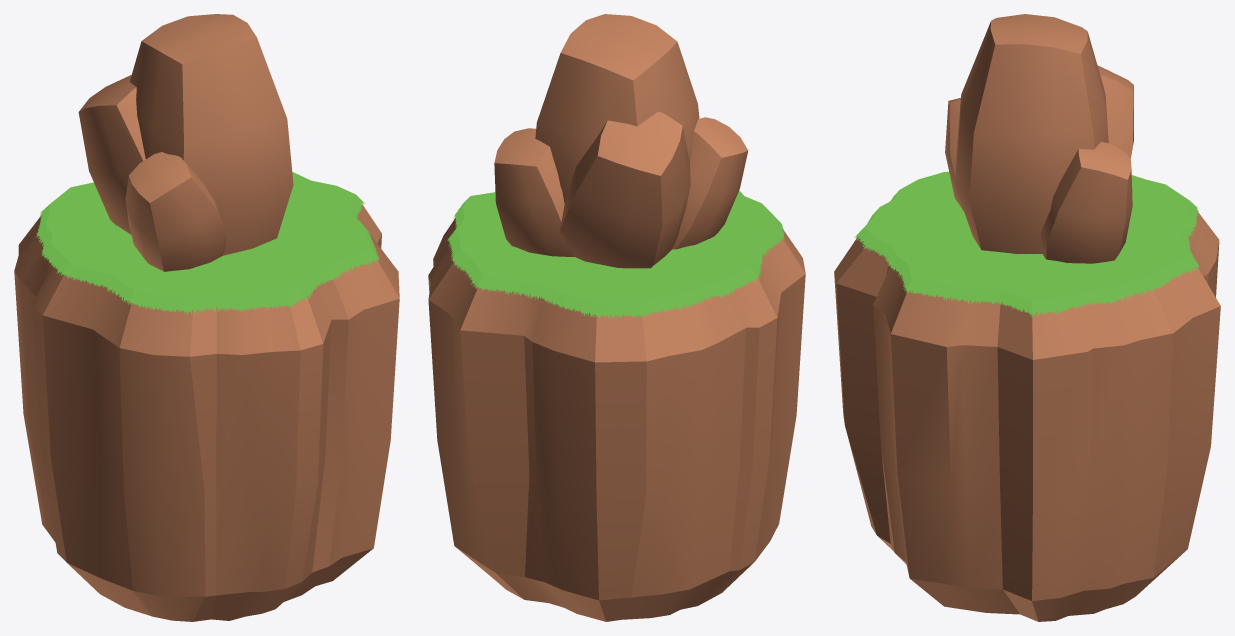
The model's file is environment-cliffs-boulders.fbx.
The picture shows the model from 3 angles, left to right: view 1: azimuth 30°, elevation 25°; view 2: azimuth 150°, elevation 25°; view 3: azimuth 270°, elevation 25°; orthographic projection.
Visible parts, largest first — view 1: model-boulder-01, model-boulder-02; view 2: model-boulder-01, model-boulder-02; view 3: model-boulder-01, model-boulder-02.
Boxes of the visible parts, x1=… form: model-boulder-01: x1=14, y1=172, x2=399, y2=621; model-boulder-02: x1=78, y1=14, x2=293, y2=271; model-boulder-01: x1=428, y1=190, x2=805, y2=621; model-boulder-02: x1=494, y1=14, x2=748, y2=268; model-boulder-01: x1=834, y1=171, x2=1220, y2=621; model-boulder-02: x1=945, y1=14, x2=1133, y2=263.
Size of the model in its own units: 750 by 1144 by 742.
